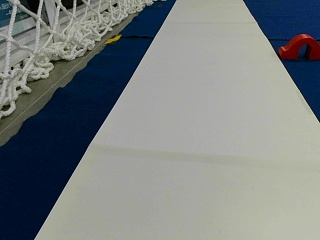bridge: (279, 33, 319, 58)
